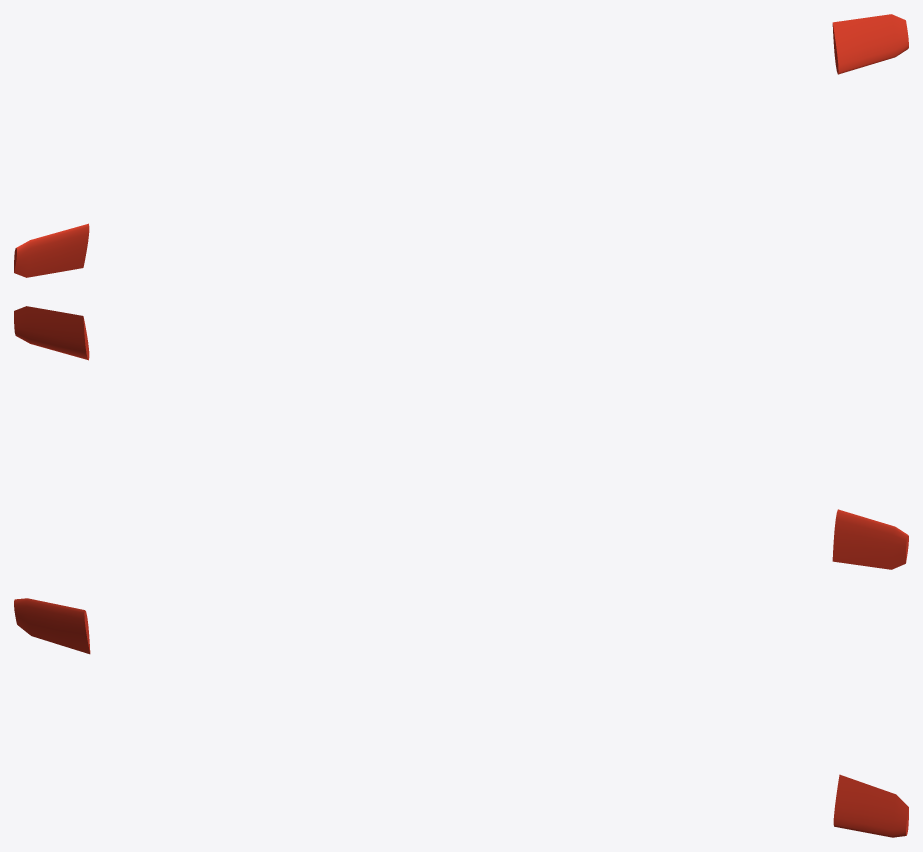
The model's file is left_front_prop_tips.obj.
3 renders of one model, top to bottom at view 1: azimuth 30°, elevation 25°; view 2: azimuth 150°, elevation 25°; view 3: azimuth 330°, elevation 25°, orthographic.
Visible parts, largest first — view 1: left_front_prop_tips; view 2: left_front_prop_tips; view 3: left_front_prop_tips.
Boxes of the visible parts, box(x1,y1,x2,y2) form: left_front_prop_tips: box(14, 14, 908, 277); left_front_prop_tips: box(14, 306, 908, 569); left_front_prop_tips: box(14, 598, 908, 837).
Size of the model in its own units: 0.381 by 0.0256 by 0.0044.
